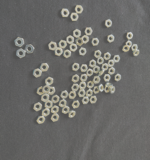nut: (14, 37, 25, 47), (16, 49, 26, 59), (54, 47, 63, 57), (33, 103, 43, 112), (25, 45, 35, 54), (75, 5, 84, 14), (63, 50, 72, 59), (48, 42, 57, 51), (51, 95, 60, 104), (51, 114, 60, 123), (37, 116, 46, 125), (47, 87, 56, 96), (41, 94, 50, 103), (45, 77, 54, 86), (37, 87, 46, 96), (40, 63, 49, 72), (33, 69, 42, 78), (67, 35, 75, 45), (45, 100, 53, 110), (105, 19, 113, 28), (70, 13, 79, 21), (61, 9, 70, 17), (91, 38, 100, 46), (94, 50, 102, 59), (76, 38, 84, 47), (69, 44, 78, 52), (59, 40, 67, 49), (80, 64, 88, 73), (72, 63, 80, 72), (81, 97, 90, 105), (72, 100, 80, 109), (68, 110, 76, 119), (61, 90, 69, 99), (62, 106, 70, 115), (43, 85, 51, 94), (113, 55, 121, 63), (108, 67, 116, 75), (85, 28, 93, 36), (97, 57, 105, 65), (93, 76, 101, 84), (79, 48, 87, 56), (89, 60, 97, 68), (90, 96, 98, 104), (87, 81, 95, 89), (80, 74, 88, 82), (79, 82, 87, 90), (78, 90, 86, 98), (72, 75, 80, 83), (71, 84, 79, 92), (69, 92, 77, 100), (59, 100, 67, 108), (51, 106, 59, 114), (42, 109, 50, 117), (98, 84, 105, 93), (82, 35, 89, 44), (74, 29, 81, 38), (133, 50, 141, 57), (132, 44, 139, 52), (127, 32, 134, 40), (123, 45, 131, 52), (108, 35, 115, 43), (108, 60, 115, 68), (115, 74, 122, 82), (104, 53, 111, 61), (102, 63, 109, 71), (103, 75, 111, 82), (93, 86, 100, 94), (87, 69, 94, 77), (86, 90, 94, 97), (126, 41, 133, 48), (98, 70, 105, 77), (109, 87, 116, 94), (94, 66, 100, 74), (104, 86, 110, 93), (106, 83, 114, 88)
